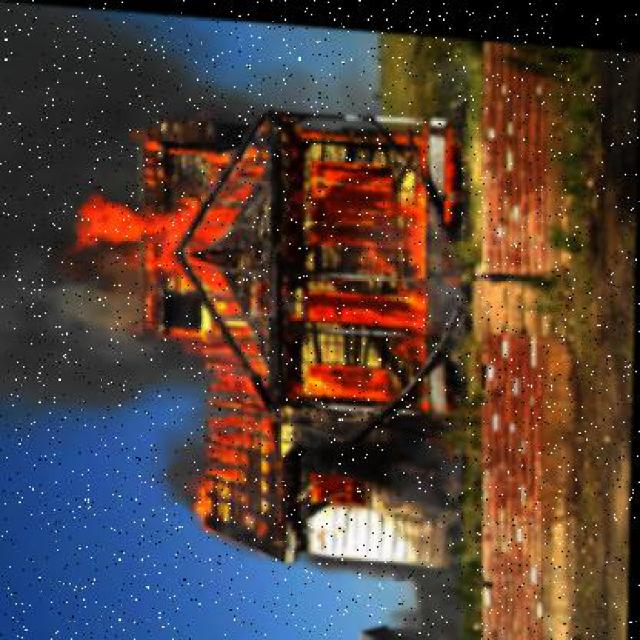fire: (66, 89, 455, 409)
